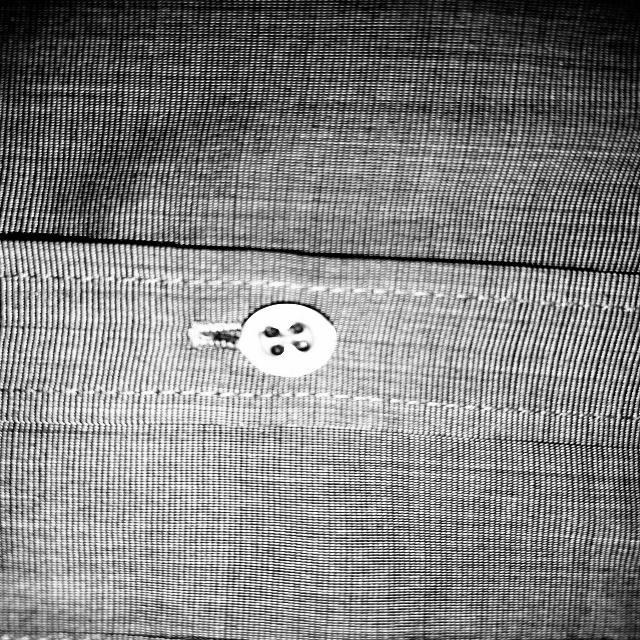Button_hike: (169, 295, 350, 386)
